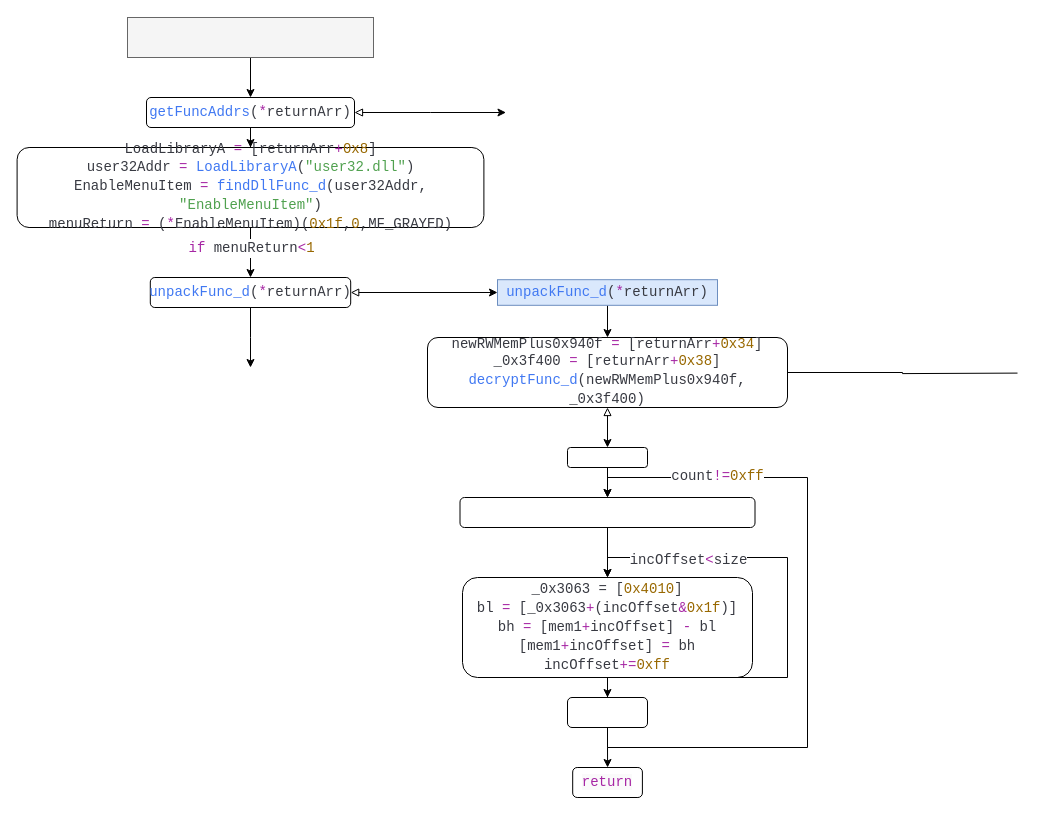
Some shapes in this 1037 by 815 pixel diagram are drawn without their labels. The shapes that lost their labels are listed below. From the top down, each one's centre as x and y in pixels, then its label:
(250,37): decrypytedEntry ( * returnArr)
(607,457): count = 0
(607,512): incOffset = 0x4014_LongArr [count * 4 ]
(607,712): count += 1
